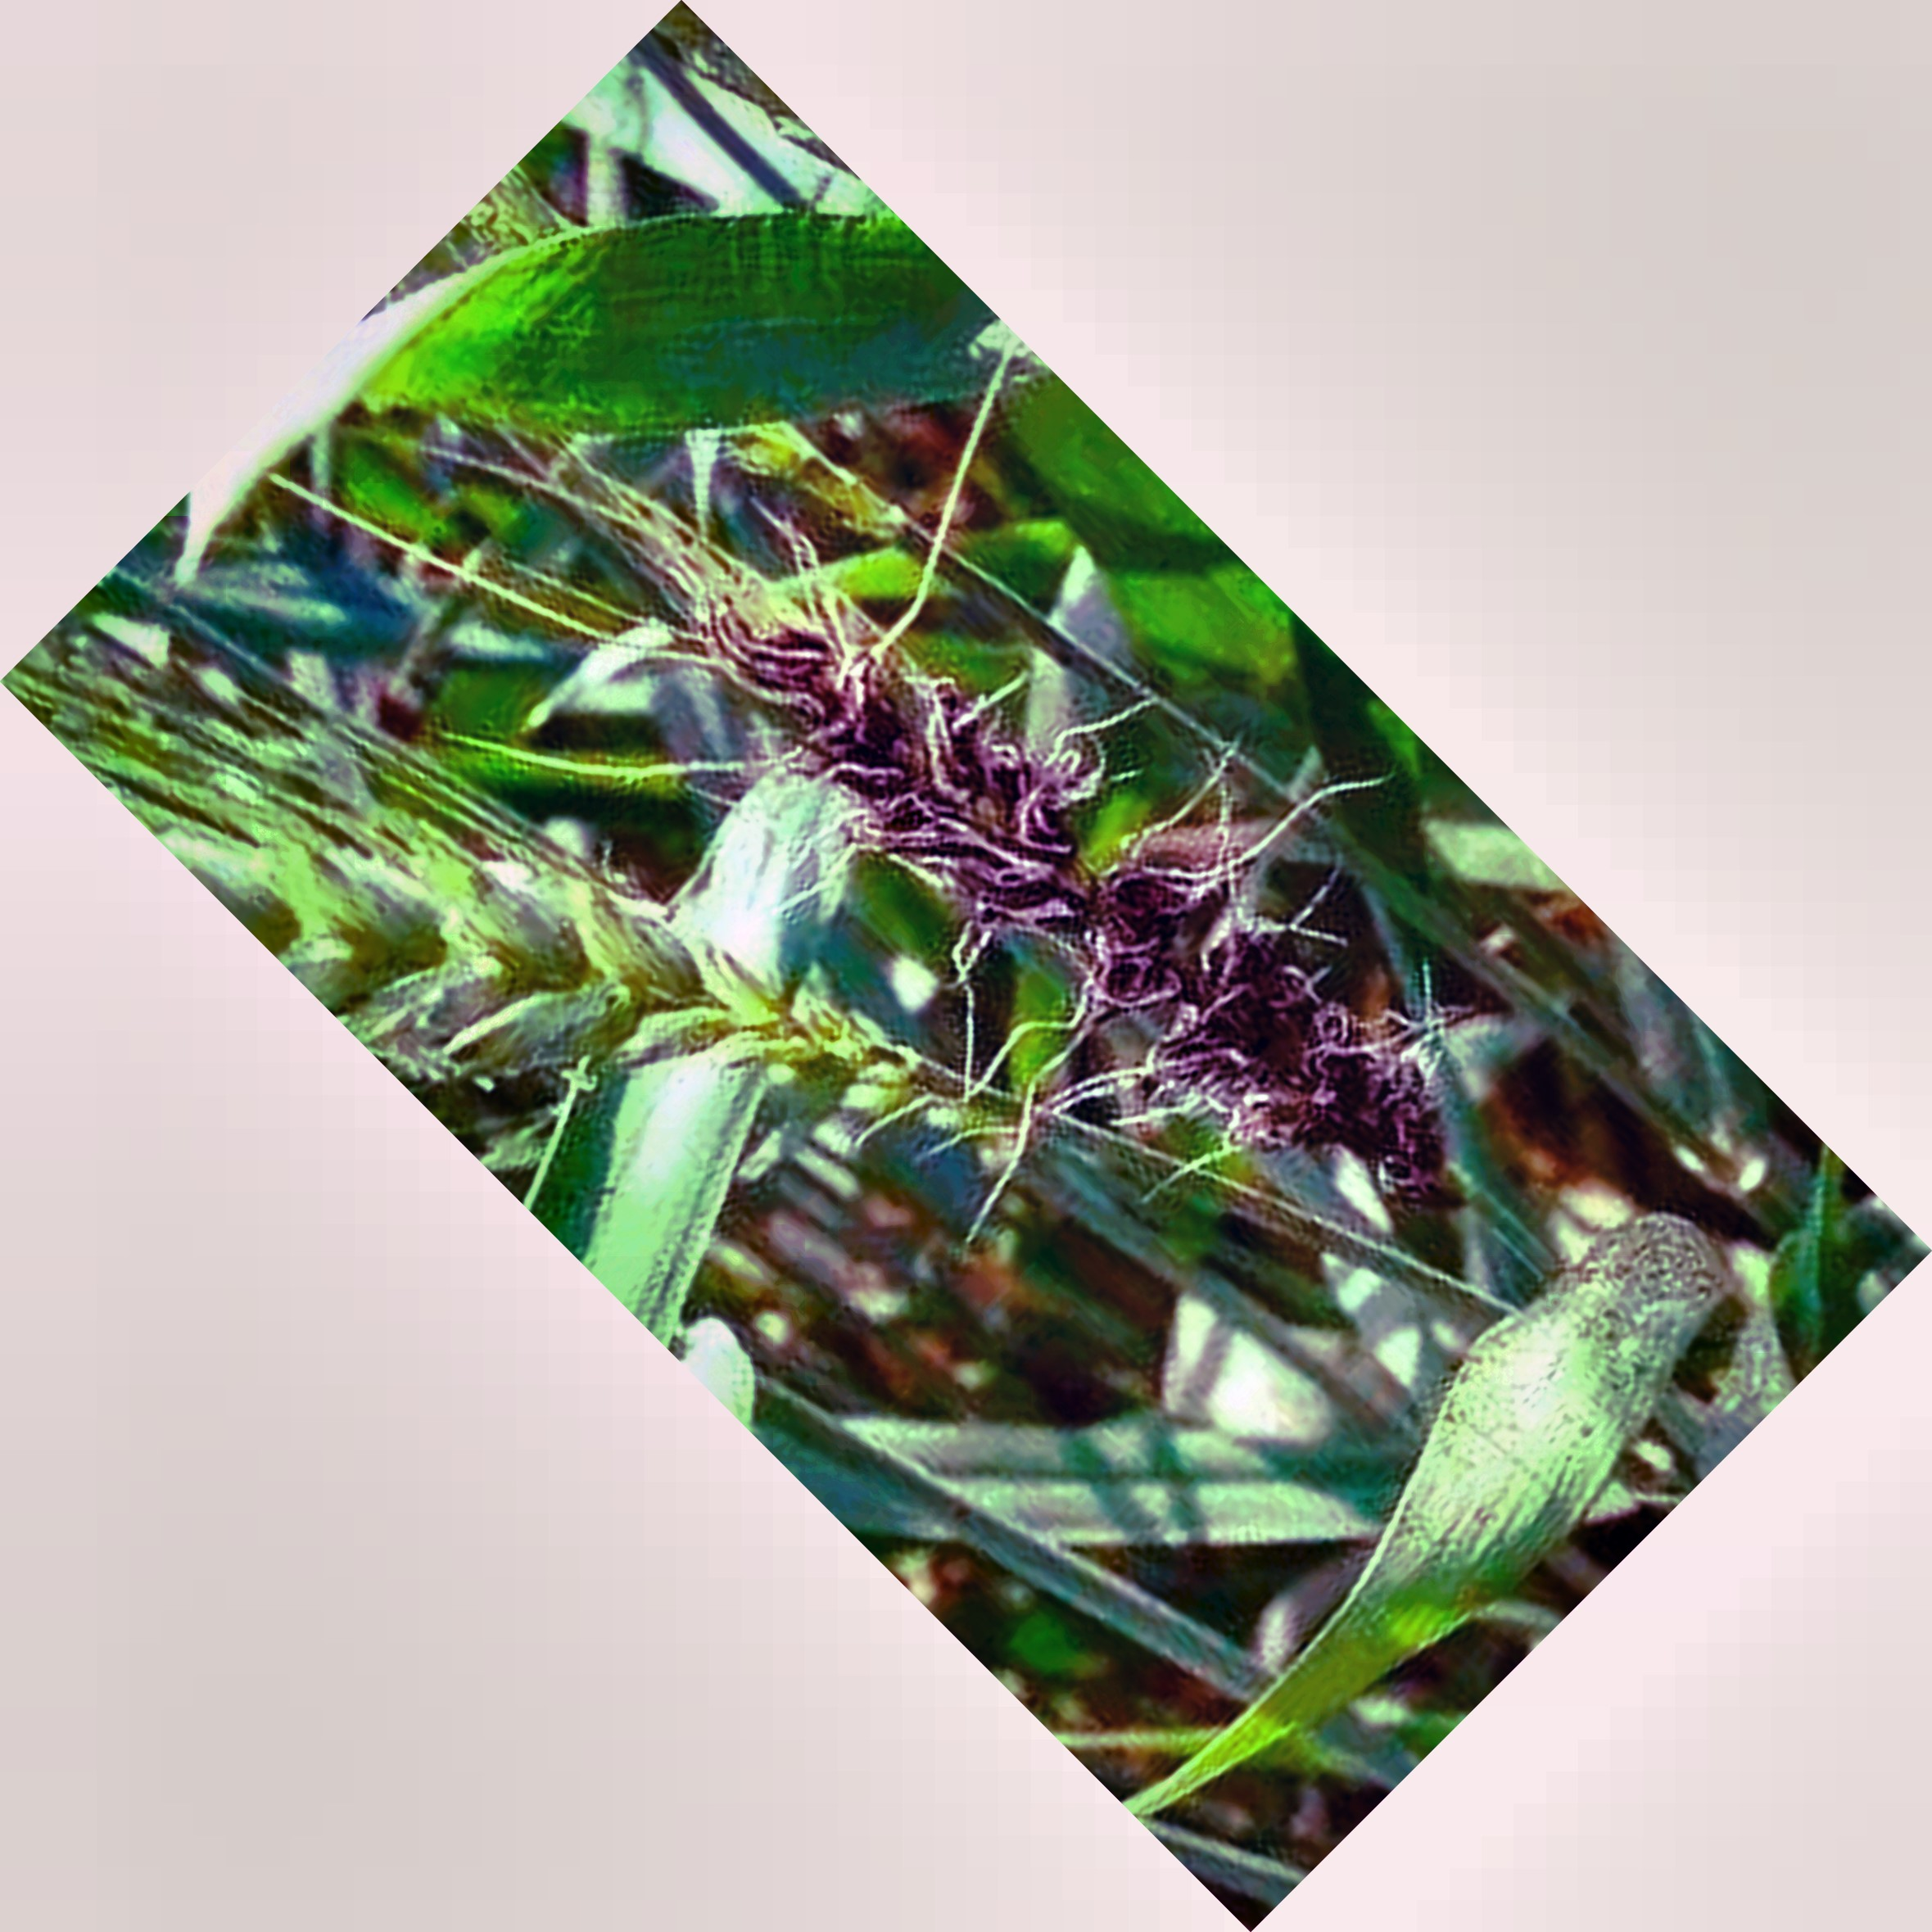Wheat Loose Smut: (667, 598, 1421, 1120)
